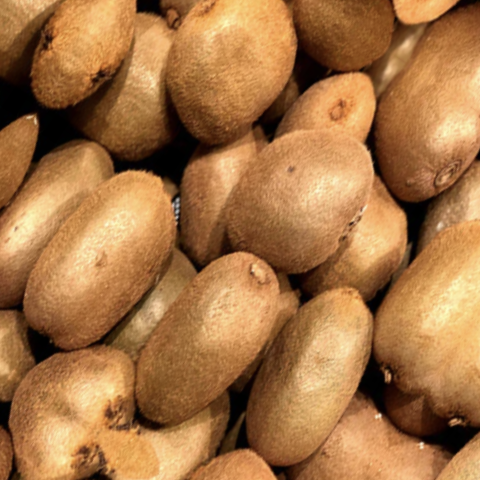kiwi: (0, 140, 213, 386), (199, 90, 422, 319), (102, 222, 312, 461), (207, 253, 426, 480), (117, 0, 336, 177), (342, 185, 480, 397)
